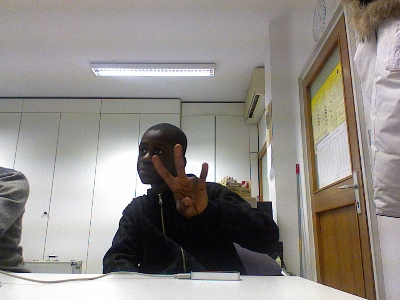观音: (150, 144, 209, 218)
